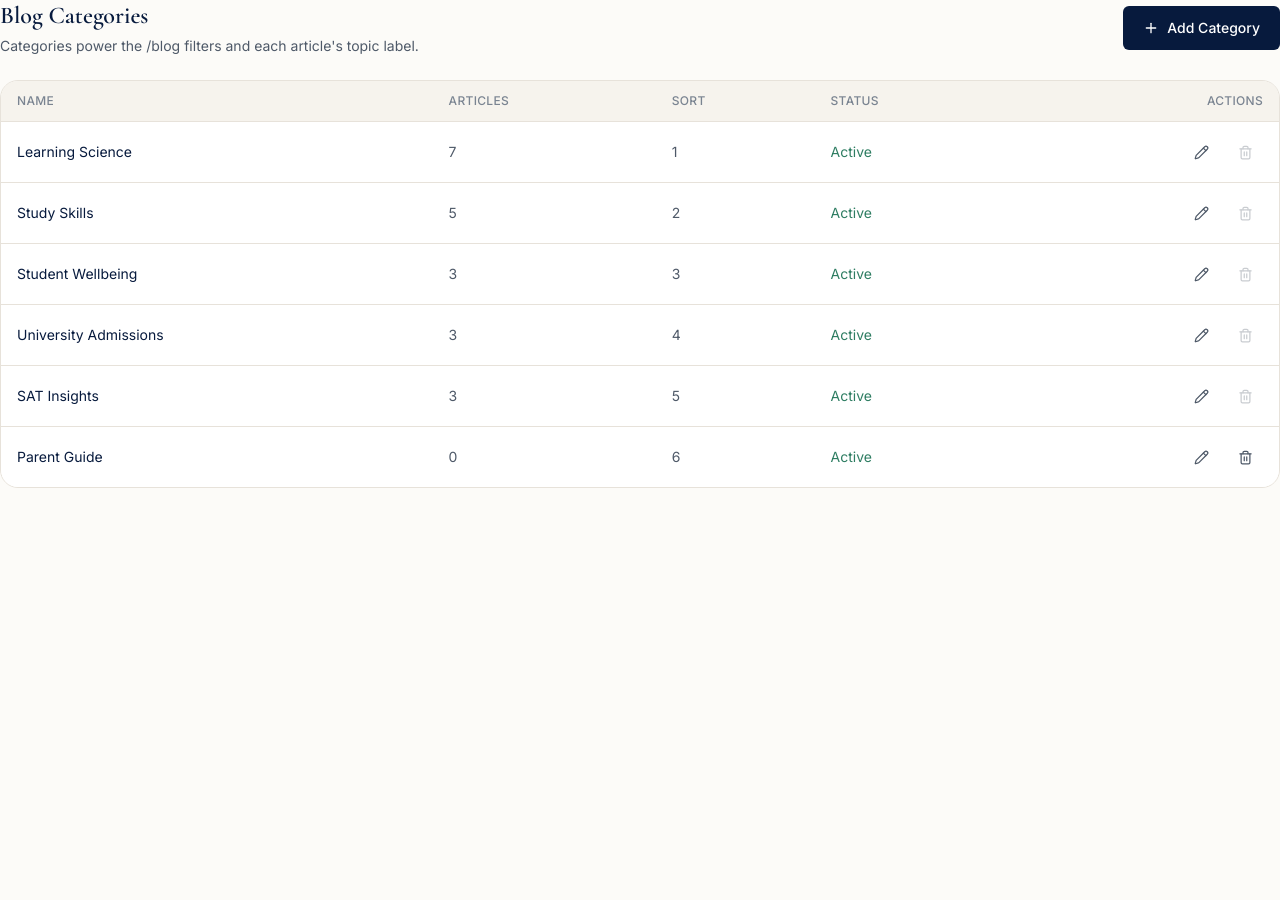
BlogCategoriesAdmin › creates a new category
Click the button "Add Category" at {"x": 1202, "y": 28}, box 1123,6 -> 1279,50
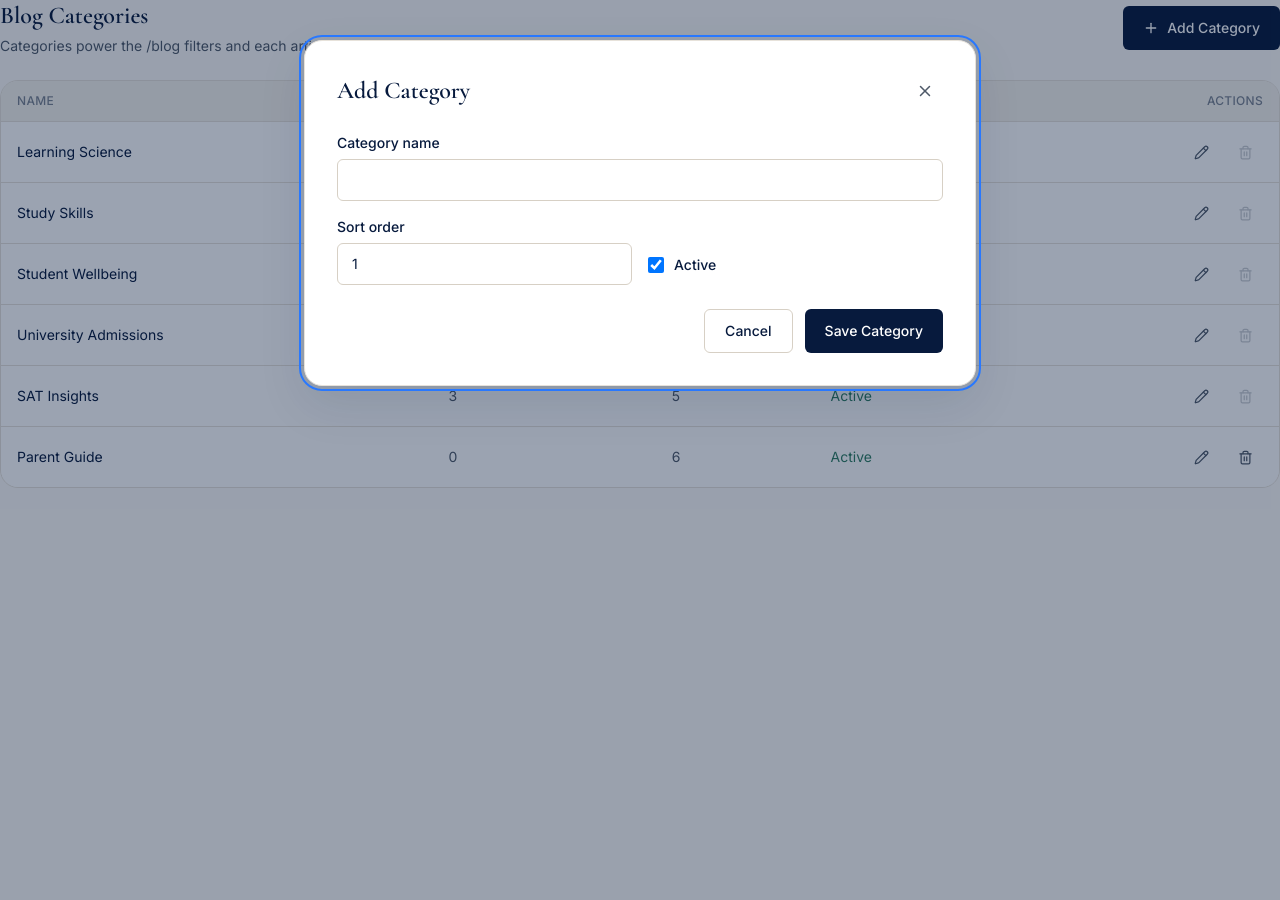
Type "Test Category" into the field labelled "Category name" at {"x": 640, "y": 180}, box 337,159 -> 943,201
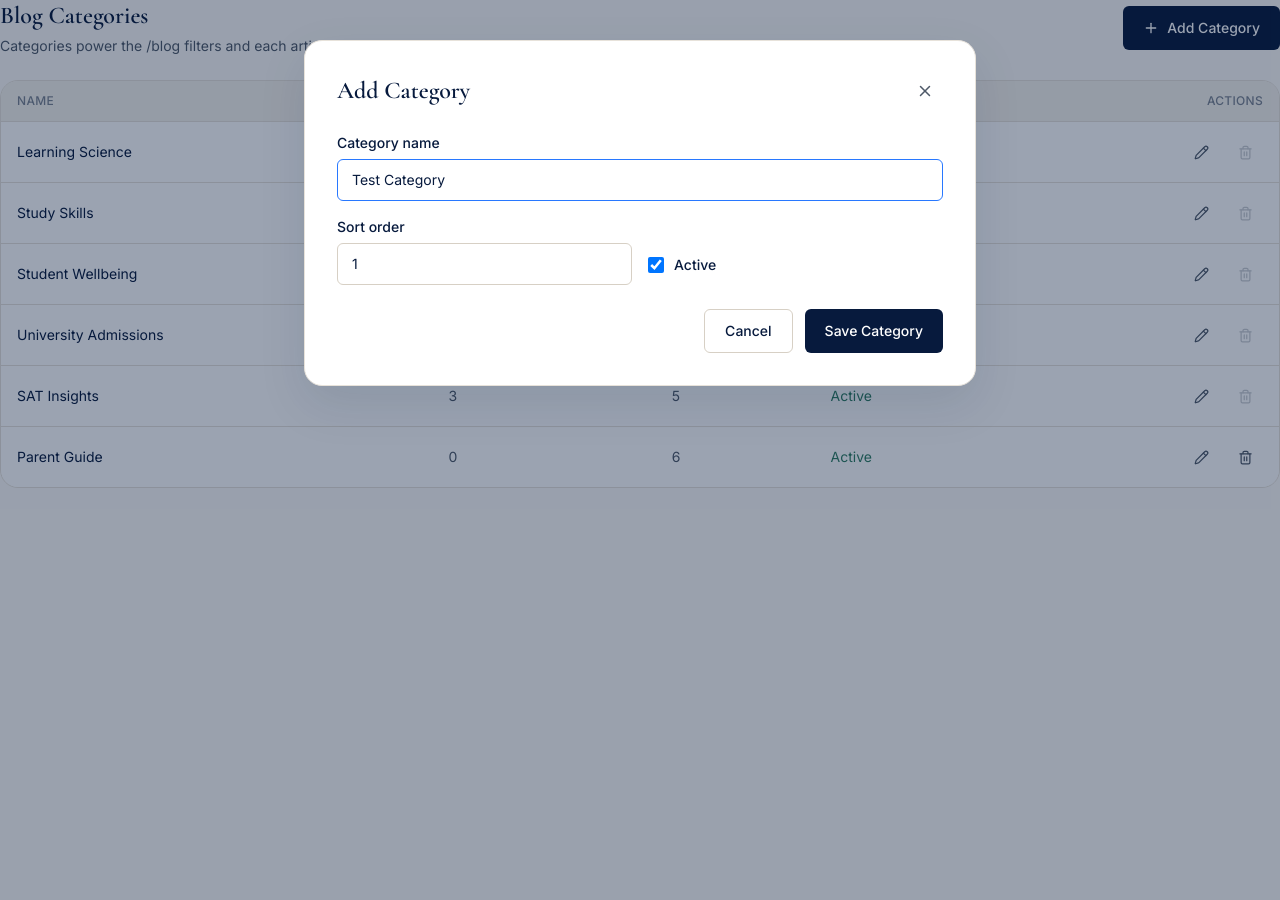
Click the button "Save Category" at {"x": 874, "y": 331}, box 805,309 -> 943,353
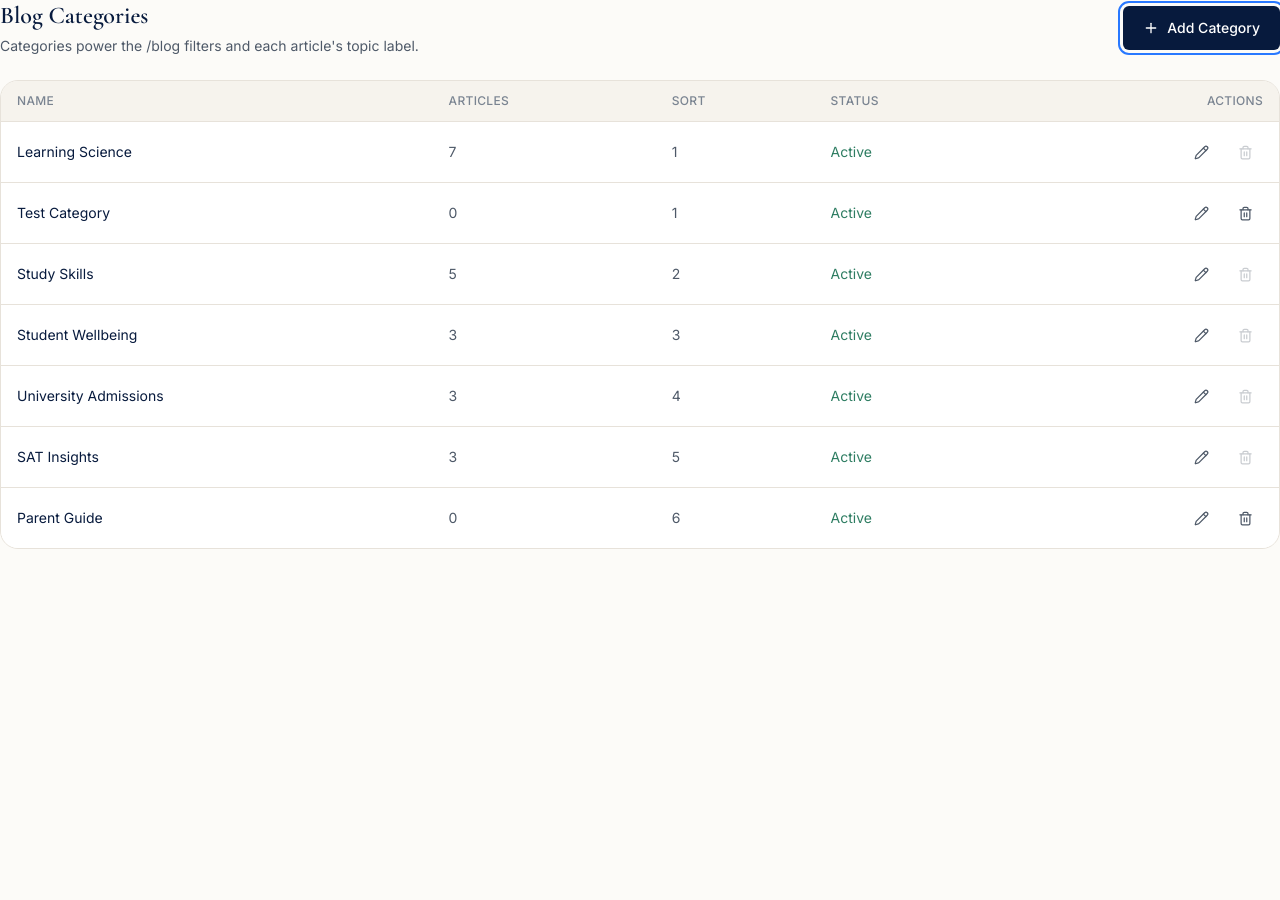
Check: the text "Test Category" is shown, box 1,182 -> 433,244
